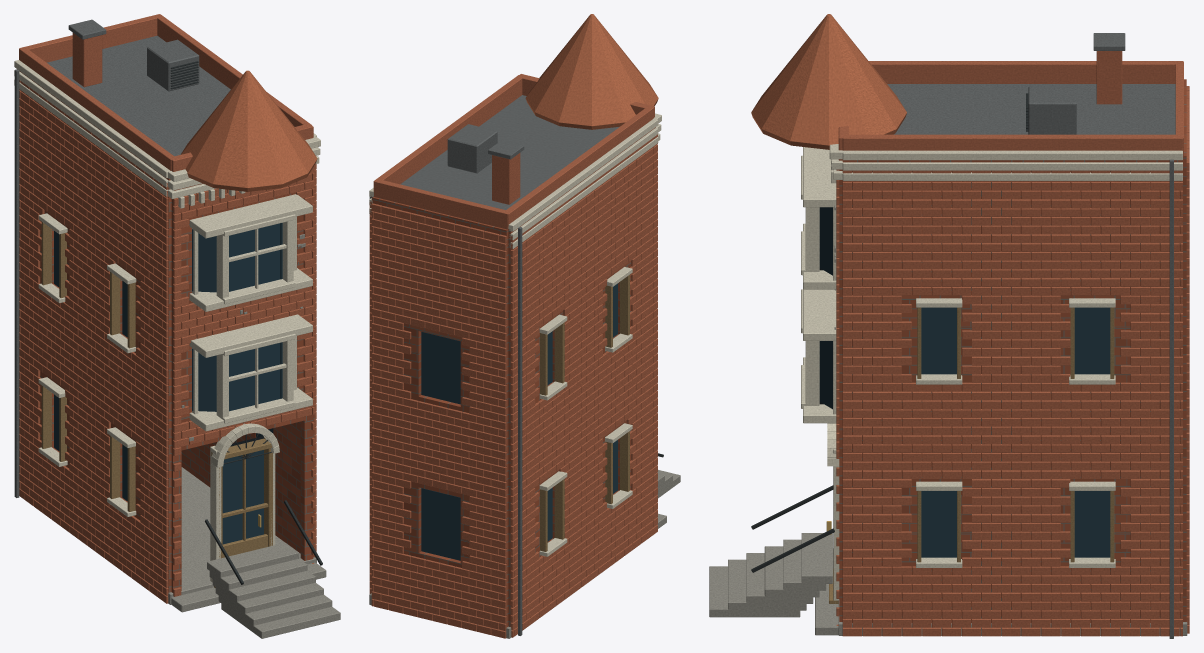
The model's file is VICT16_lod0.glb.
The picture shows the model from 3 angles, left to right: view 1: azimuth 30°, elevation 25°; view 2: azimuth 150°, elevation 25°; view 3: azimuth 270°, elevation 25°; orthographic projection. The views are drawn at different scales.
Visible parts, largest first — view 1: VICT16_LOD0; view 2: VICT16_LOD0; view 3: VICT16_LOD0.
Part boxes in pixels (<box>): VICT16_LOD0: <box>14,14,340,638</box>; VICT16_LOD0: <box>369,14,680,638</box>; VICT16_LOD0: <box>709,14,1189,638</box>.
Size of the model in its own units: 3.71 by 11.3 by 8.46.
Materials: 13 (10 with a texture image).
